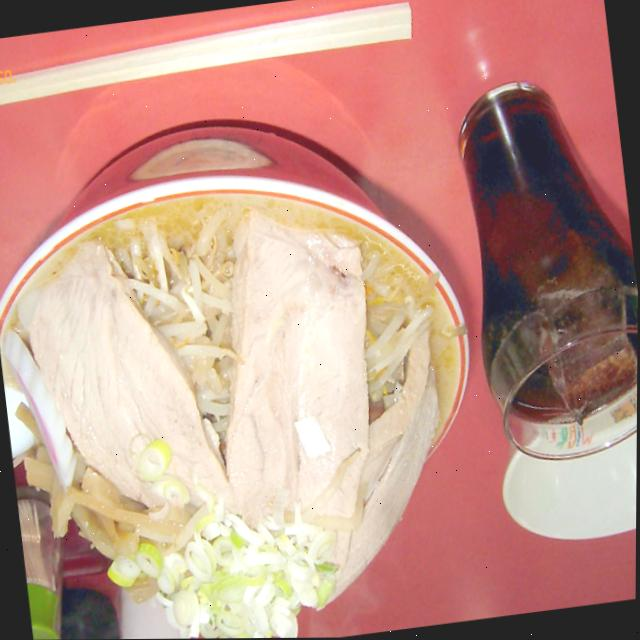面条主食: (0, 156, 478, 640)
